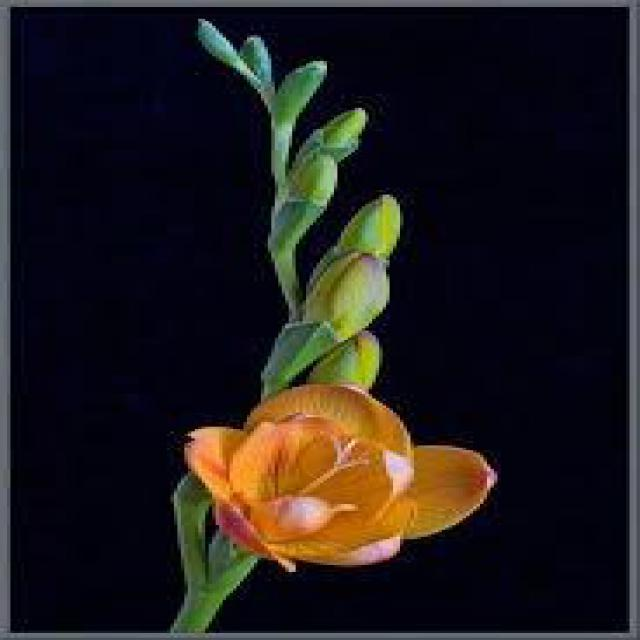freesia: (177, 377, 520, 579)
